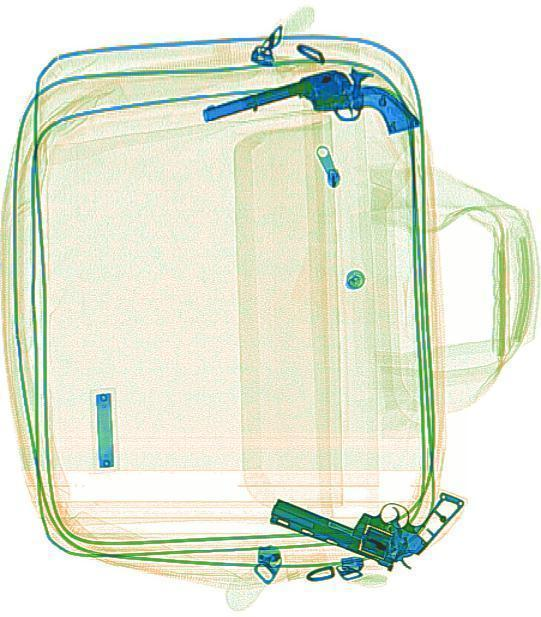Gun: (198, 46, 421, 182), (264, 436, 464, 587)
